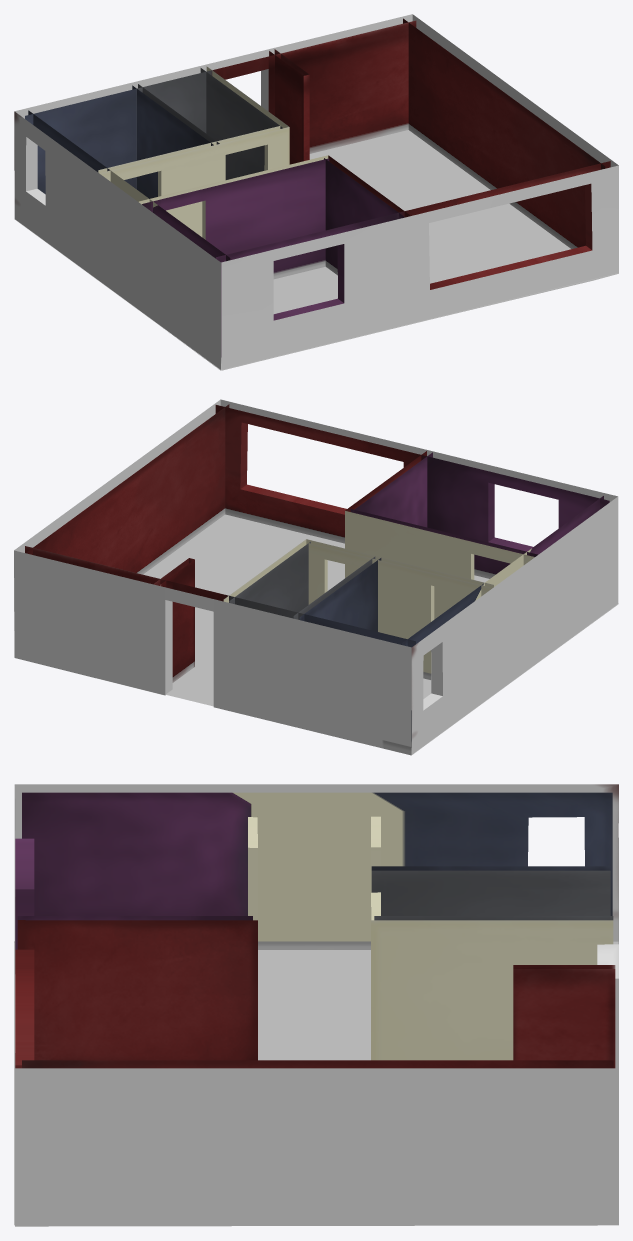
Rendered from appartamento_final.FBX.
3 views of the same model, one above another, from view 1: azimuth 30°, elevation 25°; view 2: azimuth 150°, elevation 25°; view 3: azimuth 270°, elevation 25° (orthographic). The views are drawn at different scales.
Parts seen in each view (by area): view 1: Box002, Plane001; view 2: Box002, Plane001; view 3: Box002, Plane001.
Part boxes in pixels (x1,y1,x2,y2): Box002: [14, 14, 618, 370]; Plane001: [14, 130, 618, 370]; Box002: [14, 399, 618, 755]; Plane001: [143, 514, 618, 754]; Box002: [14, 784, 618, 1226]; Plane001: [14, 941, 618, 1225].
Size of the model in its own units: 10.02 by 2.62 by 9.
